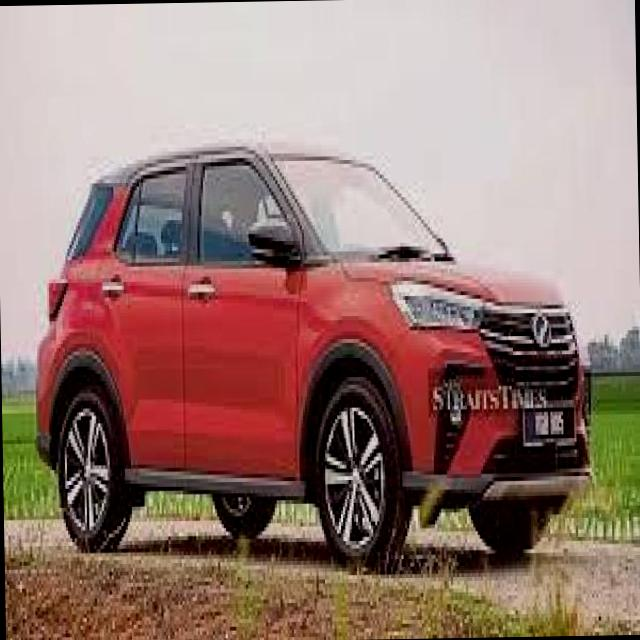PeroduaAtiva: (28, 134, 596, 580)
